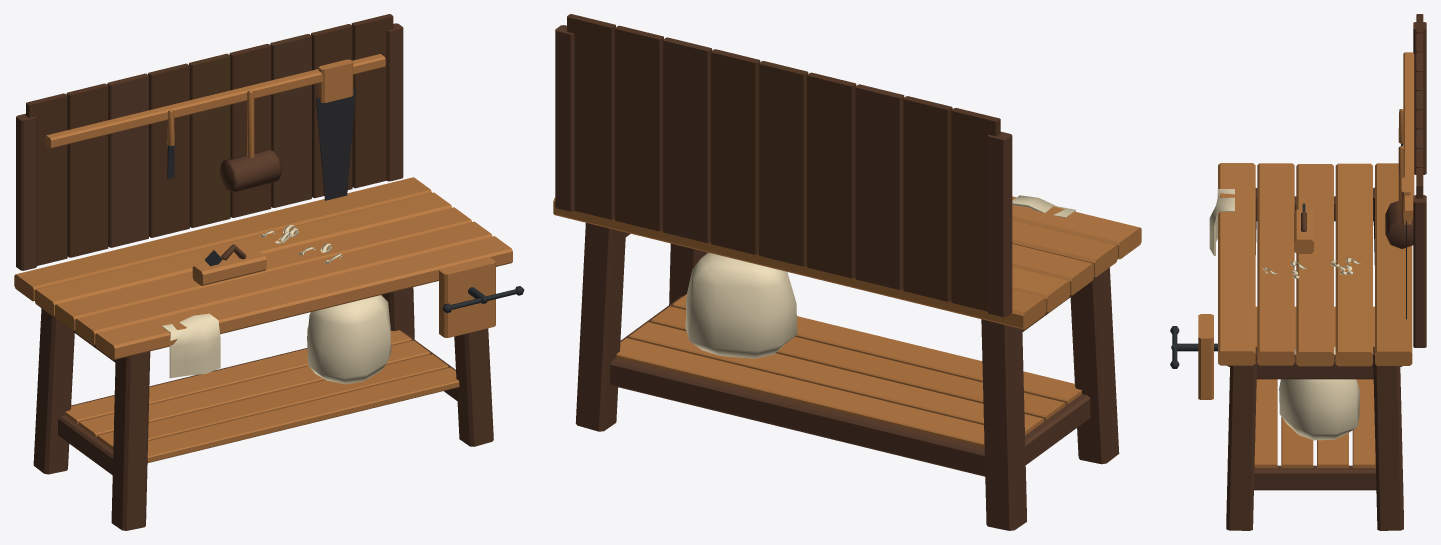
Rendered from prop_farm_workbench_a.glb.
3 renders of one model, left to right at view 1: azimuth 30°, elevation 25°; view 2: azimuth 150°, elevation 25°; view 3: azimuth 270°, elevation 25°, orthographic. The views are drawn at different scales.
Parts seen in each view (by area): view 1: prop_farm_workbench_a_mesh; view 2: prop_farm_workbench_a_mesh; view 3: prop_farm_workbench_a_mesh.
Part boxes in pixels (x1,y1,x2,y2): prop_farm_workbench_a_mesh: [14, 14, 524, 530]; prop_farm_workbench_a_mesh: [553, 14, 1141, 530]; prop_farm_workbench_a_mesh: [1170, 14, 1426, 530].
Bounding box in the file's own units: 2 × 1.7 × 1.15.
